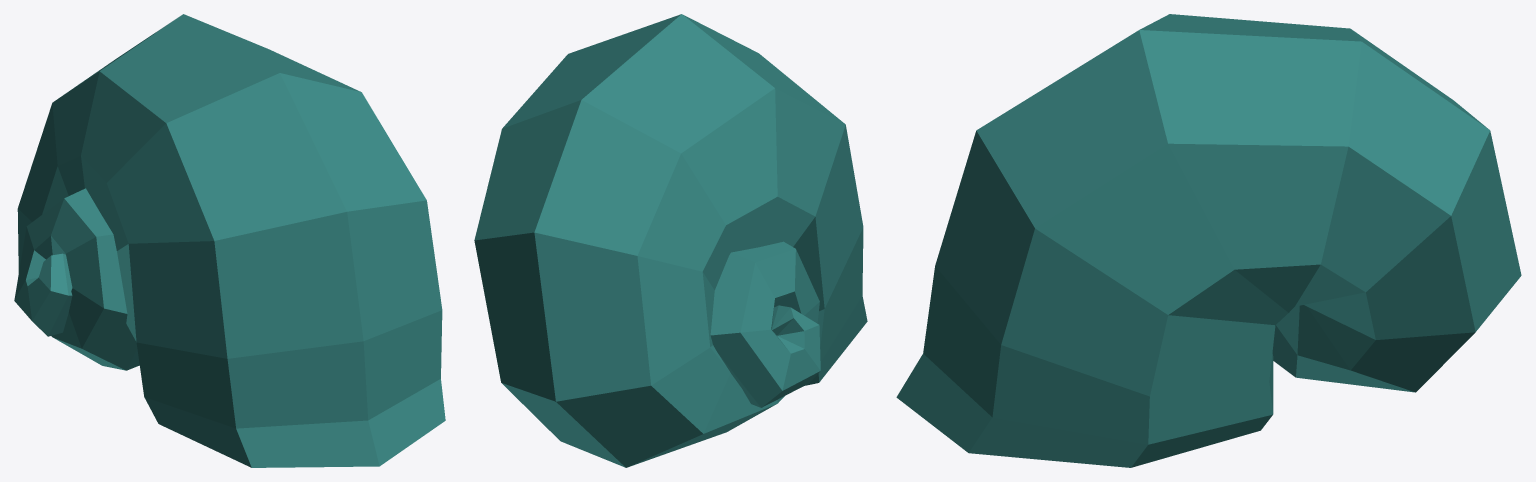
The model's file is SM_Sea_Shell_Snail_B.fbx.
3 views of the same model, side by side, from view 1: azimuth 30°, elevation 25°; view 2: azimuth 150°, elevation 25°; view 3: azimuth 270°, elevation 25° (orthographic). The views are drawn at different scales.
Parts seen in each view (by area): view 1: sea-shell-snail-b; view 2: sea-shell-snail-b; view 3: sea-shell-snail-b.
Part boxes in pixels (x1,y1,x2,y2): sea-shell-snail-b: (14, 14, 445, 467); sea-shell-snail-b: (474, 14, 867, 467); sea-shell-snail-b: (896, 14, 1521, 467).
Bounding box in the file's own units: 0.1282 × 0.1231 × 0.1868.
